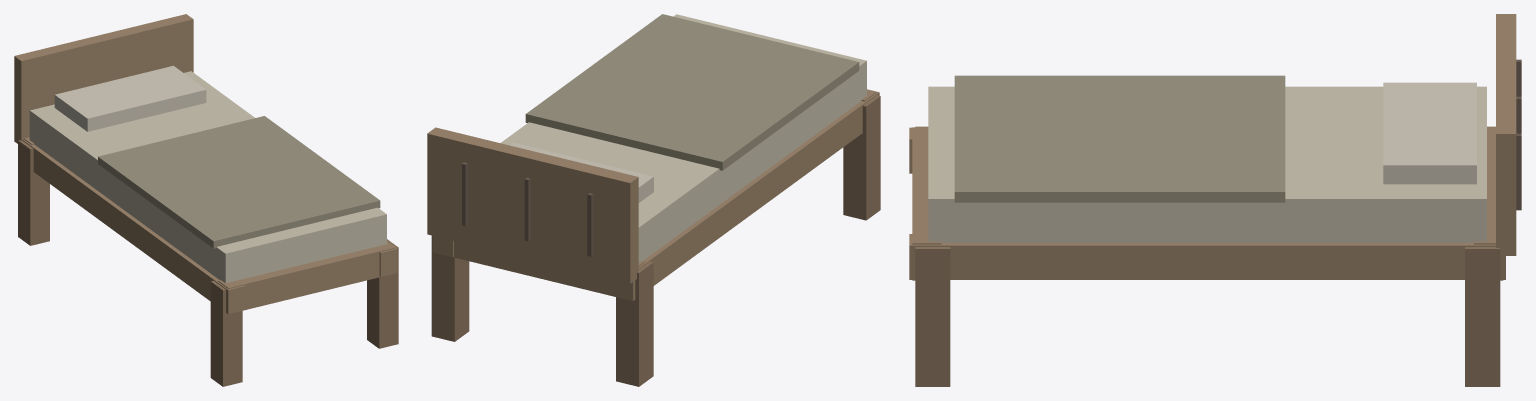
File: bed.glb
The picture shows the model from 3 angles, left to right: view 1: azimuth 30°, elevation 25°; view 2: azimuth 150°, elevation 25°; view 3: azimuth 270°, elevation 25°; orthographic projection. The views are drawn at different scales.
Visible parts, largest first — view 1: blanket, mattress, headboard, pillow, side_rail, end_rail_1, bed_leg_1, bed_leg, bed_leg_3, side_rail_1; view 2: blanket, headboard, mattress, side_rail, bed_leg, bed_leg_1, bed_leg_2, end_rail, pillow, headboard_detail_1, headboard_detail; view 3: blanket, mattress, side_rail_1, pillow, headboard, bed_leg_3, bed_leg_2, end_rail_1, end_rail.
Boxes of the visible parts, <box> form: blanket: <box>98,116,380,248</box>; mattress: <box>29,71,386,283</box>; headboard: <box>14,14,193,143</box>; pillow: <box>54,65,206,131</box>; side_rail: <box>22,139,244,314</box>; end_rail_1: <box>218,241,395,309</box>; bed_leg_1: <box>210,280,242,386</box>; bed_leg: <box>18,140,49,245</box>; bed_leg_3: <box>367,239,398,348</box>; side_rail_1: <box>379,241,397,276</box>; blanket: <box>525,14,859,170</box>; headboard: <box>427,127,638,283</box>; mattress: <box>500,14,866,262</box>; side_rail: <box>613,91,879,301</box>; bed_leg: <box>616,261,653,386</box>; bed_leg_1: <box>843,95,880,220</box>; bed_leg_2: <box>431,235,469,341</box>; end_rail: <box>453,241,644,296</box>; pillow: <box>510,142,653,202</box>; headboard_detail_1: <box>524,177,530,241</box>; headboard_detail: <box>587,193,593,256</box>; blanket: <box>954,75,1285,202</box>; mattress: <box>928,86,1486,242</box>; side_rail_1: <box>909,234,1505,279</box>; pillow: <box>1383,82,1476,184</box>; headboard: <box>1496,14,1516,255</box>; bed_leg_3: <box>915,247,950,386</box>; bed_leg_2: <box>1465,247,1500,386</box>; end_rail_1: <box>912,127,941,280</box>; end_rail: <box>1474,127,1503,280</box>.
Size of the model in its own units: 0.99 by 0.95 by 2.09.
